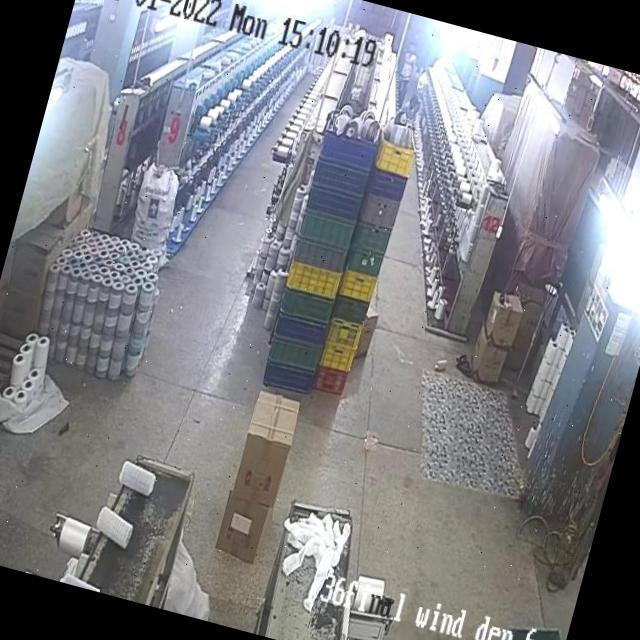person: (392, 44, 420, 98), (398, 92, 418, 126), (407, 92, 424, 122)
